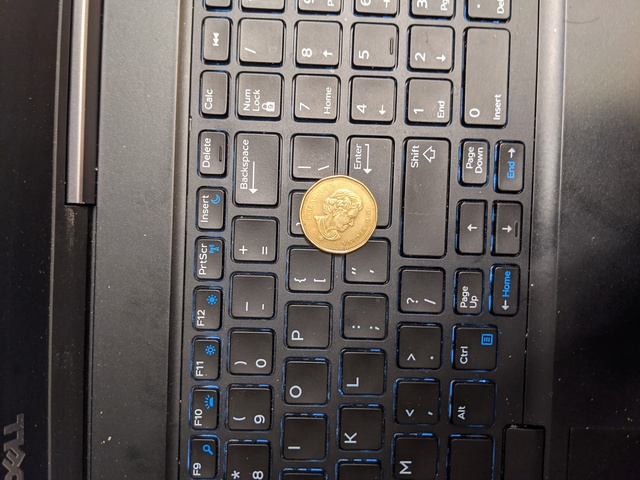loonie: (292, 171, 384, 265)
